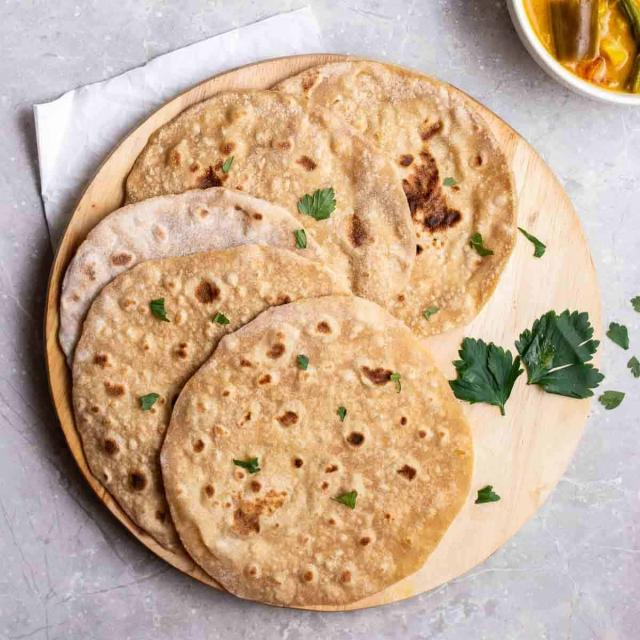chapathi: (126, 75, 414, 325), (281, 52, 542, 319)
dosa: (148, 290, 476, 611), (62, 244, 338, 527)
